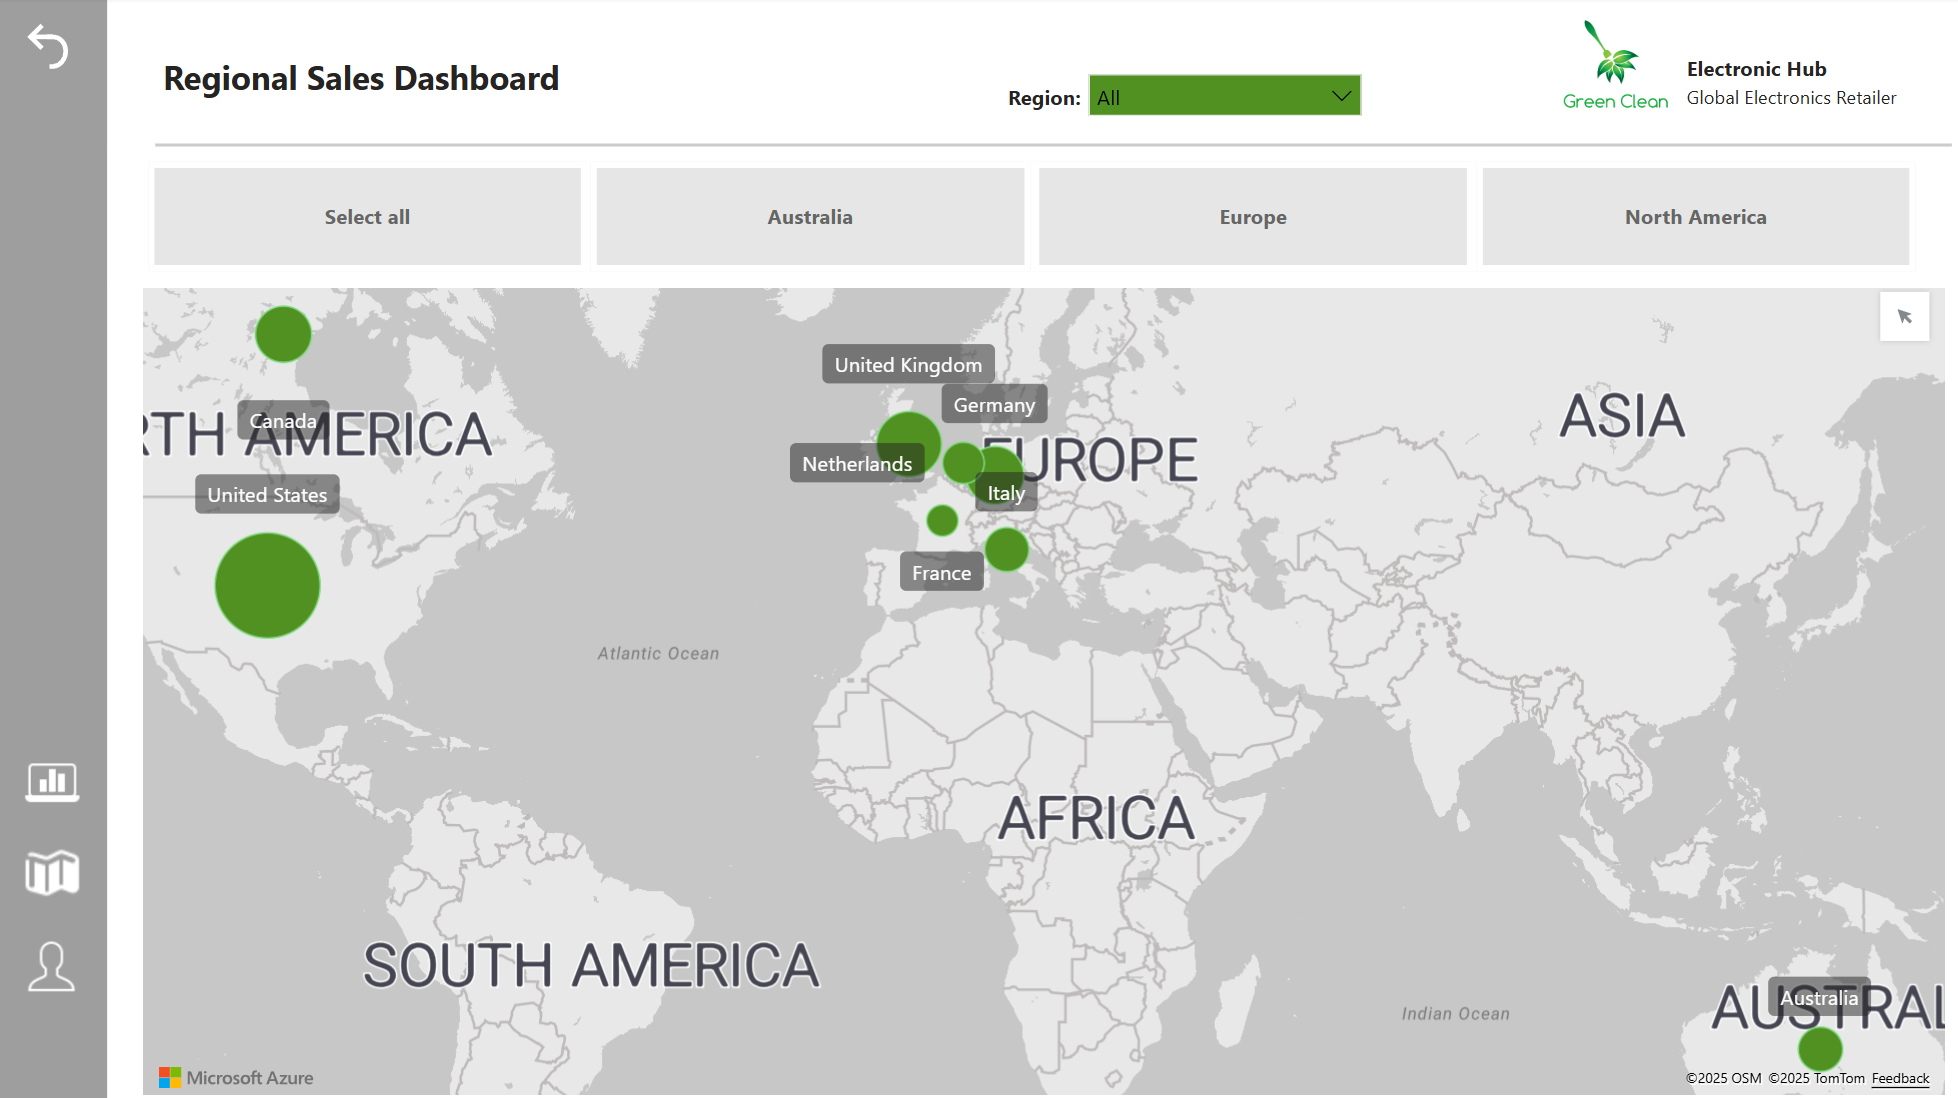

What the dashboard file says about the page in this screenshot:
{"tool":"powerbi","page":{"name":"Map","canvas":[1280,720],"ordinal":1},"visuals":[{"type":"textbox","box":[1093.7,32.2,177.8,55.1],"z":0},{"type":"textbox","box":[101.5,32.6,330.9,45.3],"z":1000},{"type":"textbox","box":[651.9,50.9,79,32.2],"z":2000},{"type":"image","box":[1007.4,0,89.4,87.3],"z":3000},{"type":"shape","box":[0,0,70.5,720.5],"z":4000},{"type":"actionButton","box":[12.5,486.8,45,50],"z":5000},{"type":"actionButton","box":[12.5,545.2,45,50],"z":6000},{"type":"actionButton","box":[11.4,606.2,45.6,50.5],"z":7000},{"type":"actionButton","box":[12.5,12.5,44.7,39.5],"z":8000},{"type":"shape","box":[101.9,85.3,1169.6,21.8],"z":9000},{"type":"azureMap","fields":{"Category":["Stores.Country"],"Size":["Measure.Total Orders"]},"box":[88.8,184.9,1183,534.8],"z":10000},{"type":"slicer","fields":{"Values":["Customers.Continent"]},"box":[70.7,99.7,1201.1,85.2],"z":11000},{"type":"slicer","fields":{"Values":["Stores.Country"]},"box":[698.7,39.9,197.7,45.2],"z":12000}]}

Visuals, with their boxes on the page's 1280x720 design canvas (x1, y1, x2, y2). These are canvas units, not pixel positions in the 1958x1098 screenshot, which may show the page scaled, cropped or inside an application window:
textbox: locate(1094, 32, 1272, 87)
textbox: locate(102, 33, 432, 78)
textbox: locate(652, 51, 731, 83)
image: locate(1007, 0, 1097, 87)
shape: locate(0, 0, 70, 720)
actionButton: locate(12, 487, 58, 537)
actionButton: locate(12, 545, 58, 595)
actionButton: locate(11, 606, 57, 657)
actionButton: locate(12, 12, 57, 52)
shape: locate(102, 85, 1272, 107)
azureMap - Stores.Country x Measure.Total Orders: locate(89, 185, 1272, 720)
slicer - Customers.Continent: locate(71, 100, 1272, 185)
slicer - Stores.Country: locate(699, 40, 896, 85)
